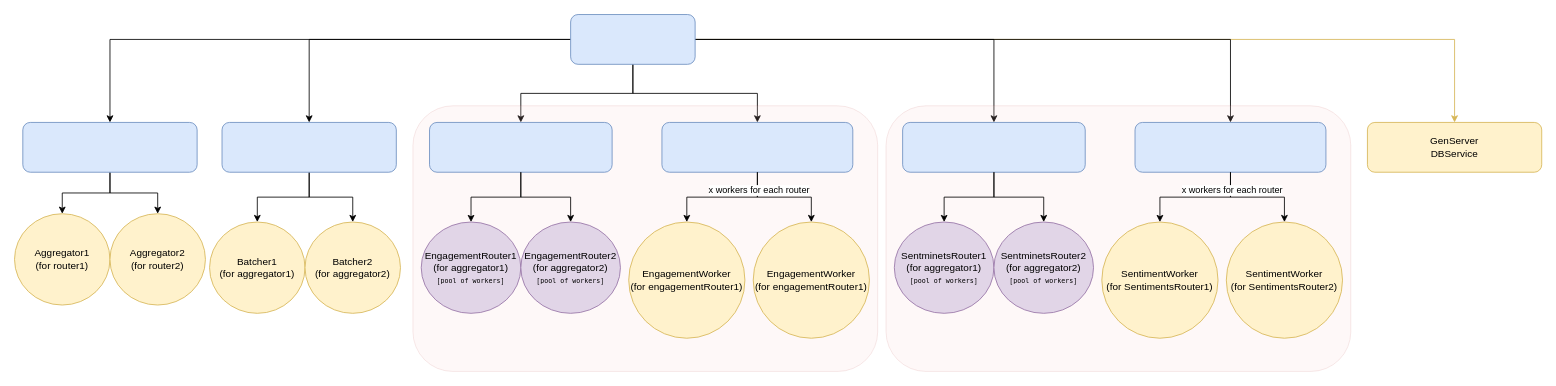
The diagram is 1556 pixels wide and 386 high, and some of its shapes have lost their labels. Each missing label, with the centre of its shape:
Application RTP_SSE.Supervisor: point 632,39
DynamicSupervisor AggregatorDynamicSupervisor: point 109,147
DynamicSupervisor BatcherDynamicSupervisor: point 308,147
DynamicSupervisor EngagementRouterDynamicSupervisor: point 520,147
DynamicSupervisor EngagementWorkerDynamicSupervisor: point 757,147
DynamicSupervisor SentimentsRouterDynamicSupervisor: point 993,147
DynamicSupervisor SentimentsWorkerDynamicSupervisor: point 1230,147
